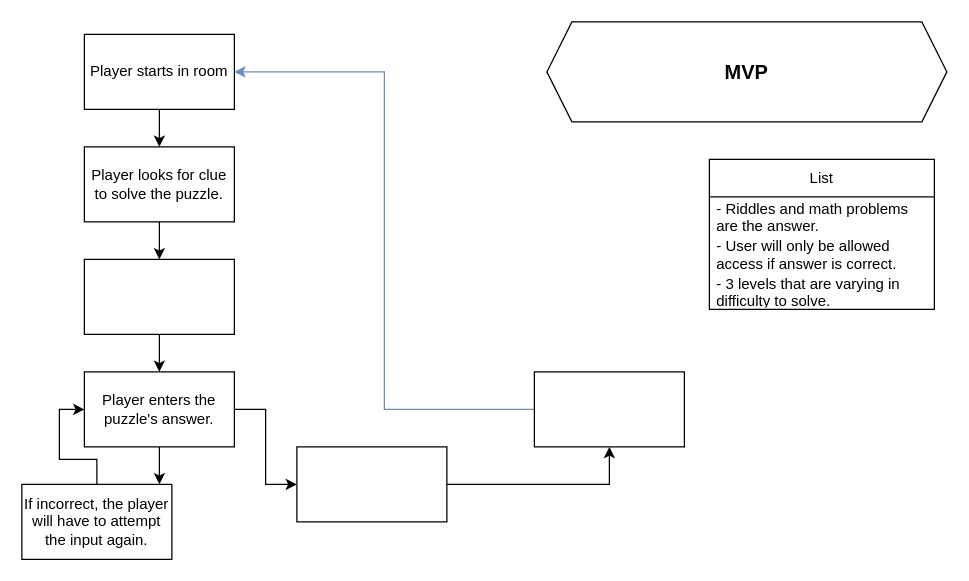
Some shapes in this 969 by 581 pixel diagram are drawn without their labels. Each missing label, with the centre of its shape:
If correct, they will be granted access to level 2.: (x=371, y=484)
Once puzzle is solved, player makes their way to exit: (x=158, y=296)
Player repeats the same process as level 1.: (x=608, y=409)
